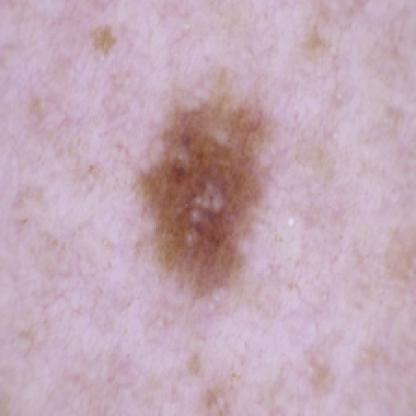benign: (139, 89, 271, 294)
